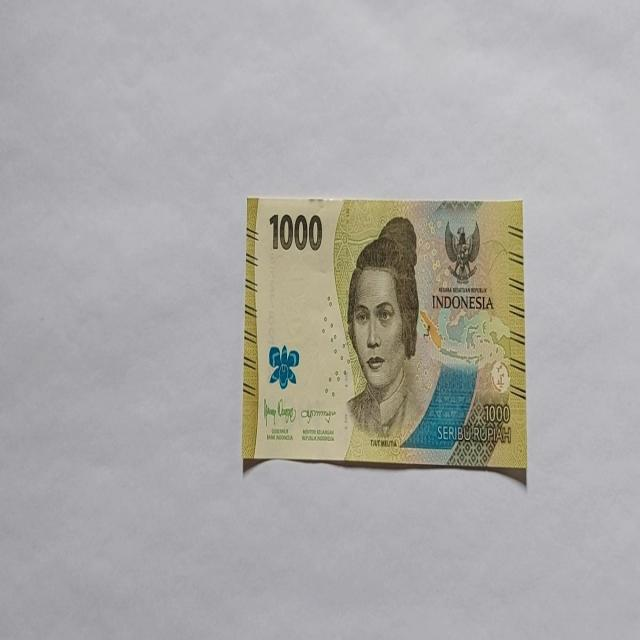seribu rupiah kertas: (242, 195, 526, 473)
